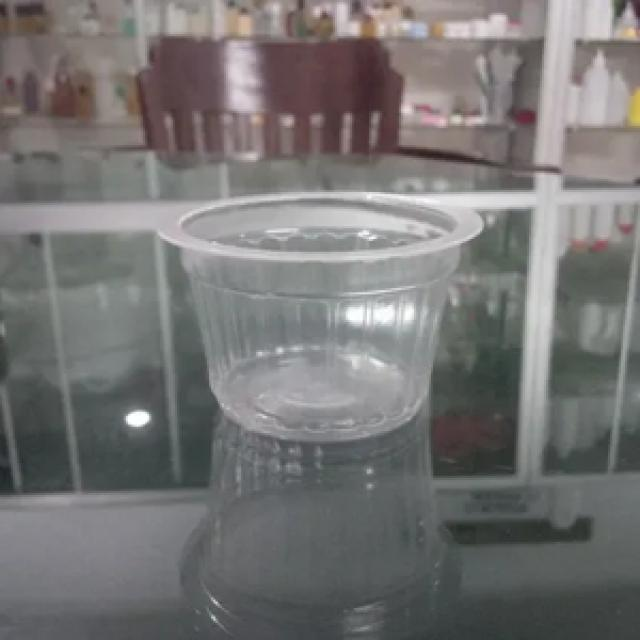plastic cup: (143, 182, 493, 452)
